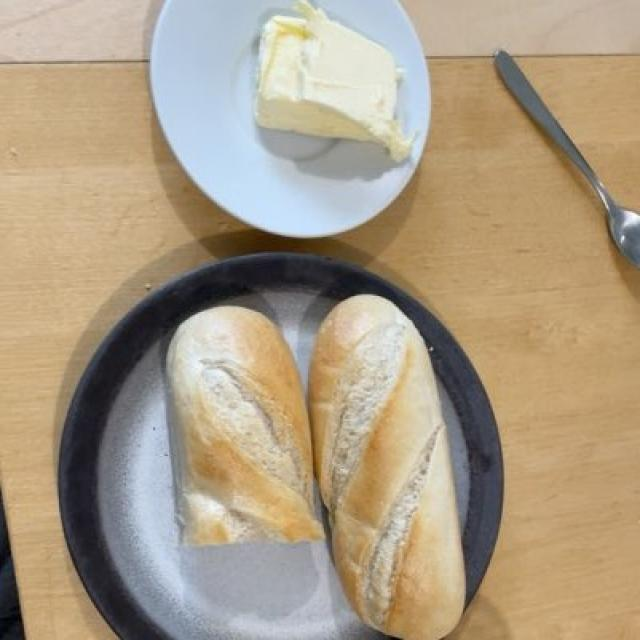bread-french-white-flour: (164, 302, 462, 620)
butter: (256, 9, 400, 158)
